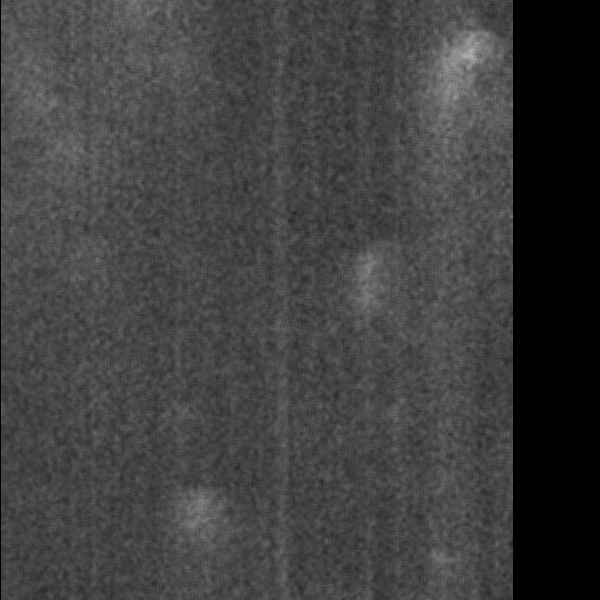spark: (435, 18, 491, 151), (180, 481, 222, 577), (350, 243, 381, 337)
